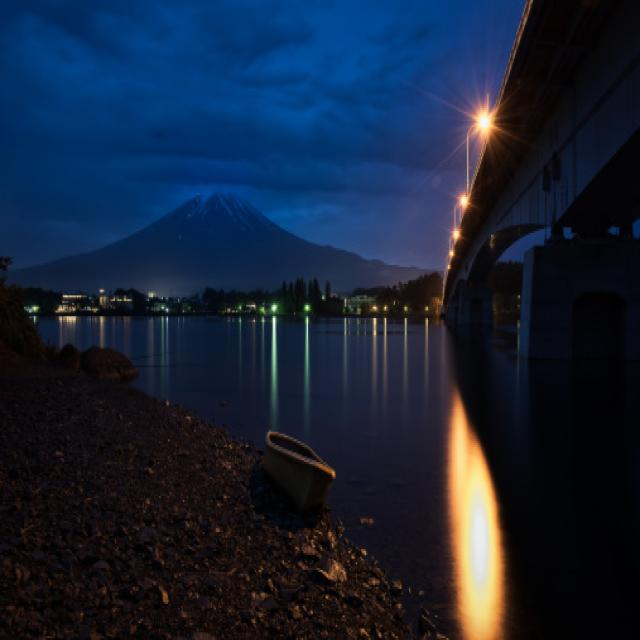Boat: (423, 87, 640, 613), (254, 398, 350, 510)
